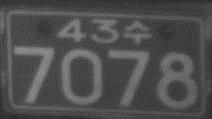0: (60, 49, 103, 106)
3: (89, 18, 119, 44)
4: (55, 17, 87, 42)
7: (107, 48, 151, 107), (13, 44, 54, 104)
8: (155, 51, 199, 110)
수: (121, 18, 152, 45)
